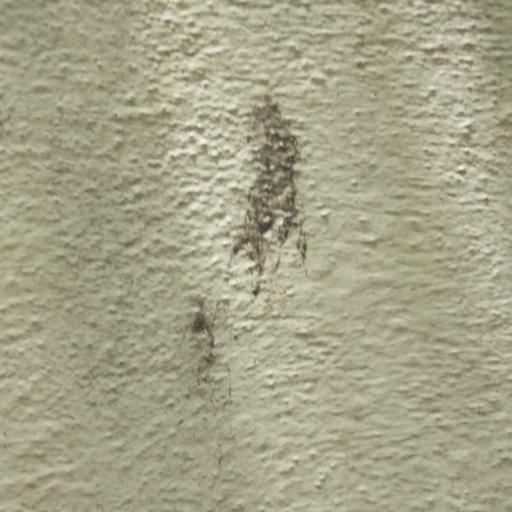stain: (146, 77, 339, 421)
